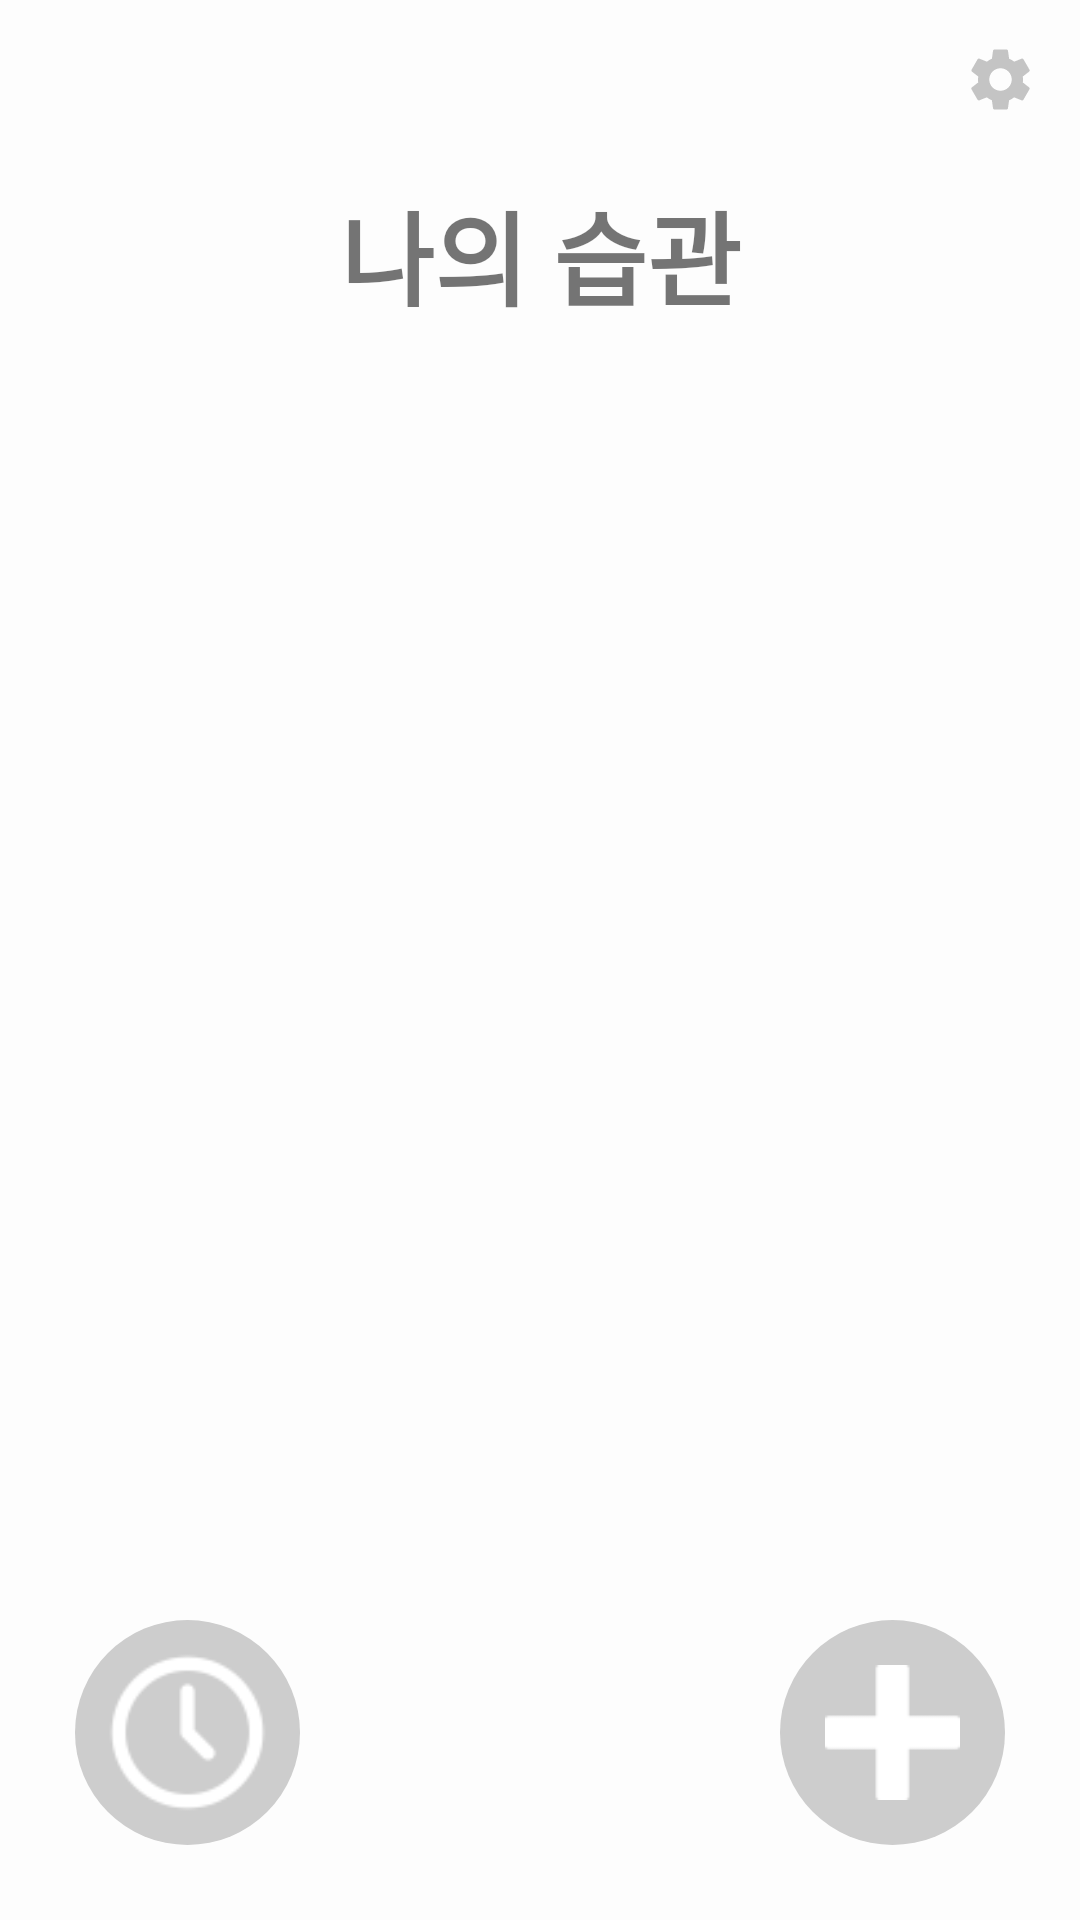

Icon bounding boxes for this 1080w x 1920h phone screenshot, format bbox=[x1, y1, x2, y2]:
clock: bbox=[75, 1620, 300, 1845]
plus: bbox=[780, 1620, 1005, 1845]
setup: bbox=[971, 49, 1030, 110]
